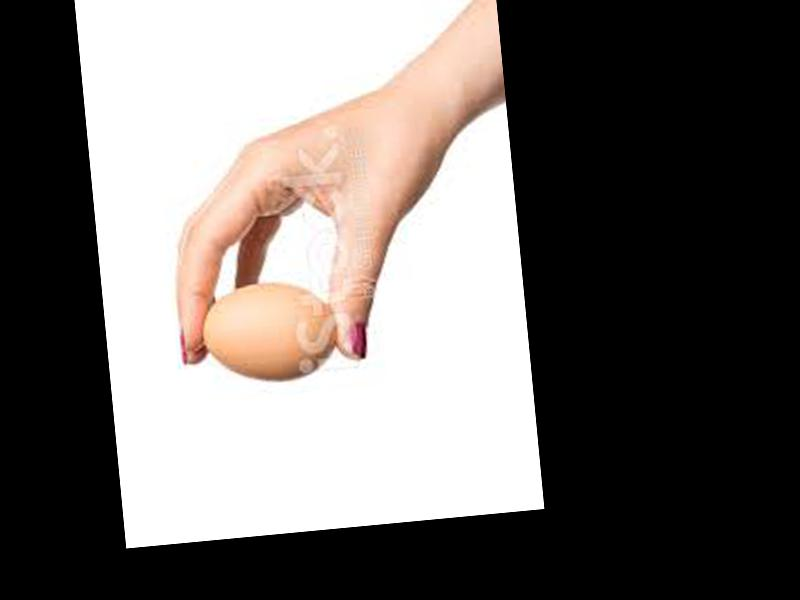Eggs: (199, 278, 341, 384)
